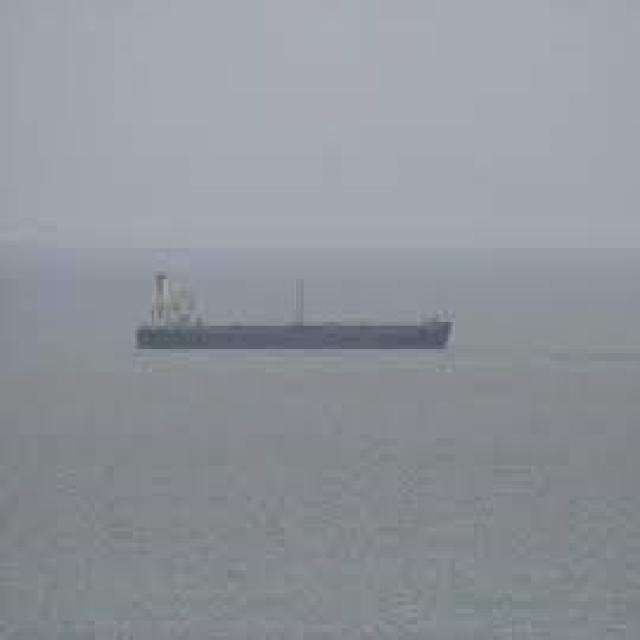cargoship: (132, 256, 453, 358)
